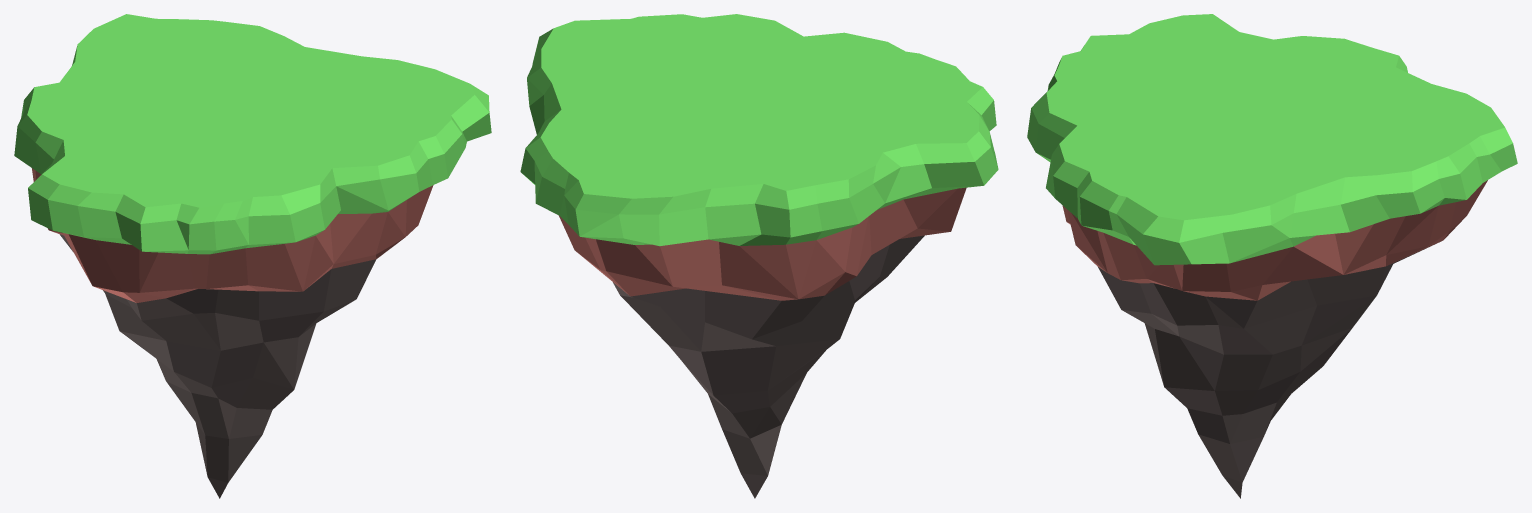
Rendered from main_island 1.fbx.
3 views of the same model, side by side, from view 1: azimuth 30°, elevation 25°; view 2: azimuth 150°, elevation 25°; view 3: azimuth 270°, elevation 25° (orthographic). The views are drawn at different scales.
Visible parts, largest first — view 1: main_island; view 2: main_island; view 3: main_island.
Boxes of the visible parts, left/top/right/bottom form: main_island: left=14, top=14, right=491, bottom=498; main_island: left=520, top=14, right=998, bottom=498; main_island: left=1027, top=14, right=1517, bottom=498.
Bounding box in the file's own units: 305 × 250 × 286.
